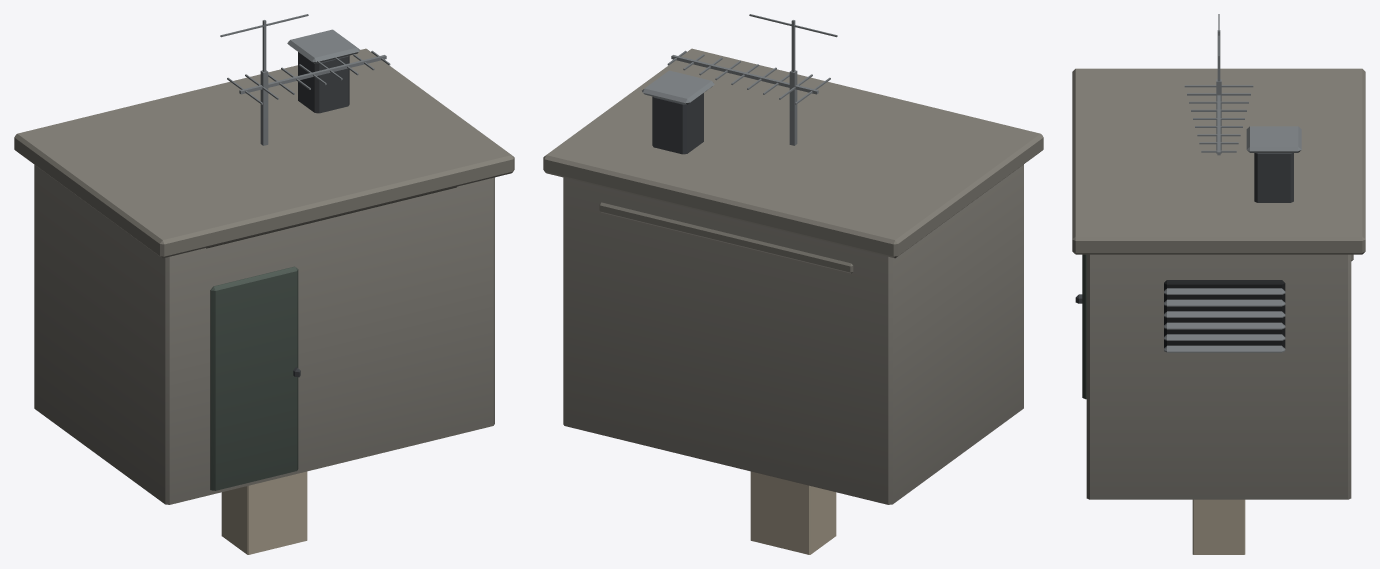
File: roofprops.glb
The picture shows the model from 3 angles, left to right: view 1: azimuth 30°, elevation 25°; view 2: azimuth 150°, elevation 25°; view 3: azimuth 270°, elevation 25°; orthographic projection.
Parts seen in each view (by area): view 1: lift, chimney, antenna; view 2: lift, chimney, stair, antenna; view 3: lift, chimney, antenna.
Boxes of the visible parts, <box> form: lift: <box>14,29,514,504</box>; chimney: <box>221,471,307,554</box>; antenna: <box>220,14,390,145</box>; lift: <box>543,48,1043,504</box>; chimney: <box>750,471,836,554</box>; stair: <box>599,202,853,273</box>; antenna: <box>667,14,837,145</box>; lift: <box>1072,68,1365,499</box>; chimney: <box>1192,499,1245,554</box>; antenna: <box>1184,14,1253,155</box>.
Size of the model in its own units: 3.66 by 5.1 by 2.66.
